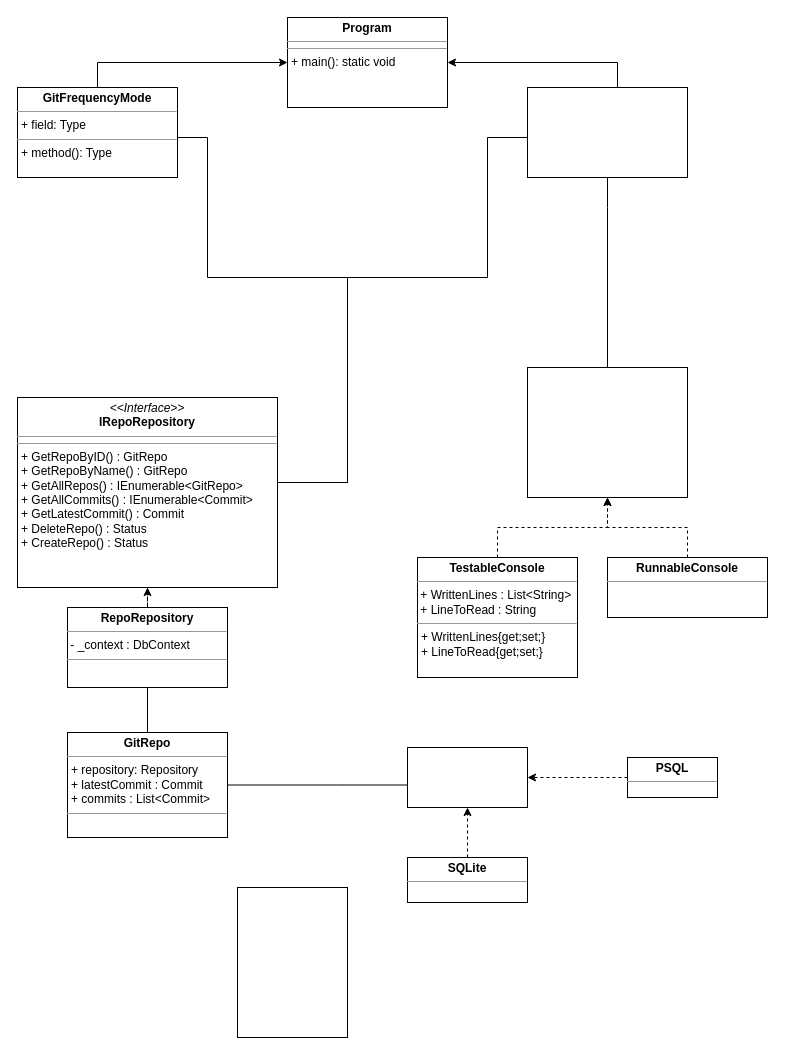
Image size: 785x1055. Some labels were removed from this diagram. The shapes that lost their labels are listed below. From the top down, each one's box as (x1, y1, x2, y2) in pixels, then its label:
(526, 86, 688, 178): GitAuthorMode + main(): static void
(526, 366, 688, 498): <<Interface>> IConsole - Write() - WriteLine() - ReadLine()
(406, 746, 528, 808): <<Interface>> DbContext
(236, 886, 348, 1038): <<Enumeration>> Status CREATED UPDATED DELETED NOTFOUND BADREQUEST CONFLICT
